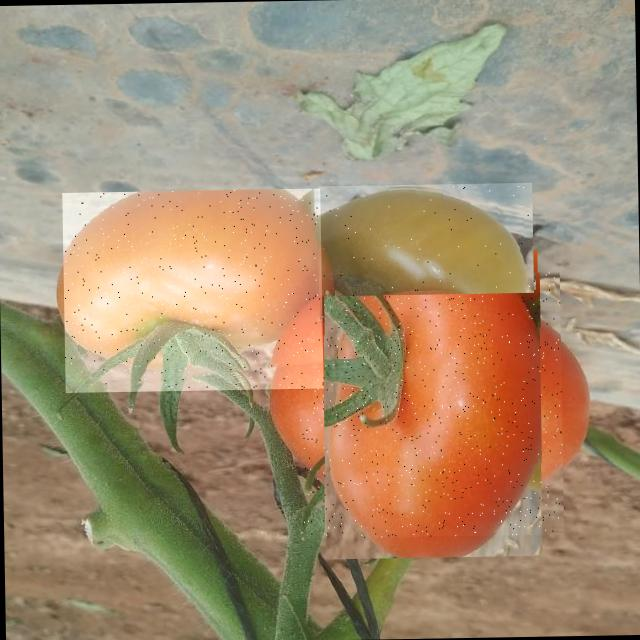Ripe Tomato: (298, 271, 564, 538), (62, 188, 323, 392)
Unripe Tomato: (318, 182, 534, 296)
